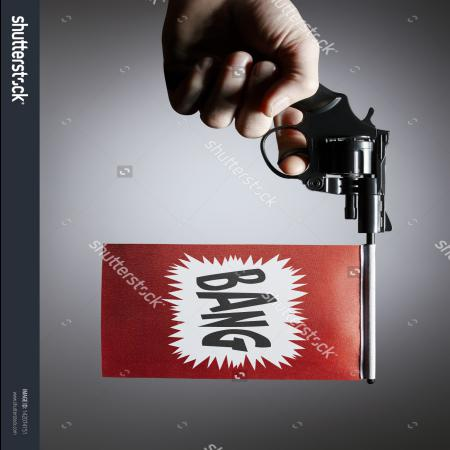Pistol: (246, 65, 392, 232)
